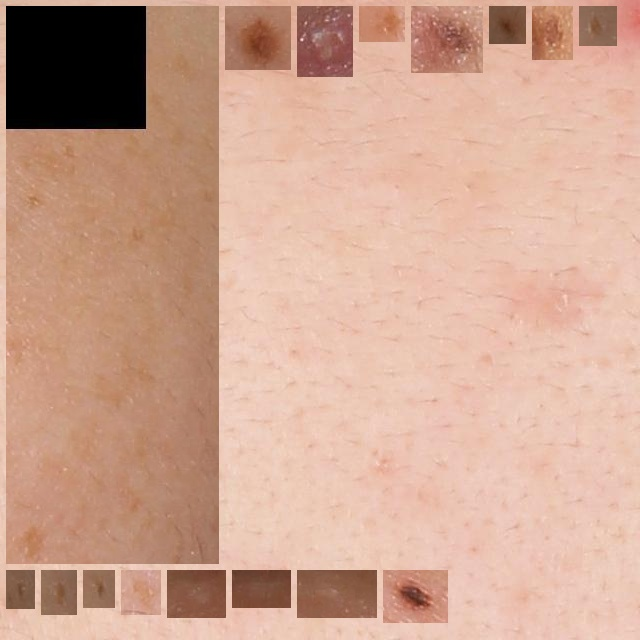hypertrophic_scar: (305, 578, 369, 610), (175, 578, 218, 610), (240, 578, 283, 600)
melasma: (14, 14, 211, 556), (129, 578, 153, 607), (49, 578, 69, 607), (587, 14, 609, 38), (91, 578, 107, 600), (14, 578, 27, 601)
nevus: (419, 14, 475, 65), (233, 14, 283, 62), (391, 578, 440, 615), (367, 14, 397, 34), (497, 14, 518, 36)
pustule: (305, 14, 345, 69)
